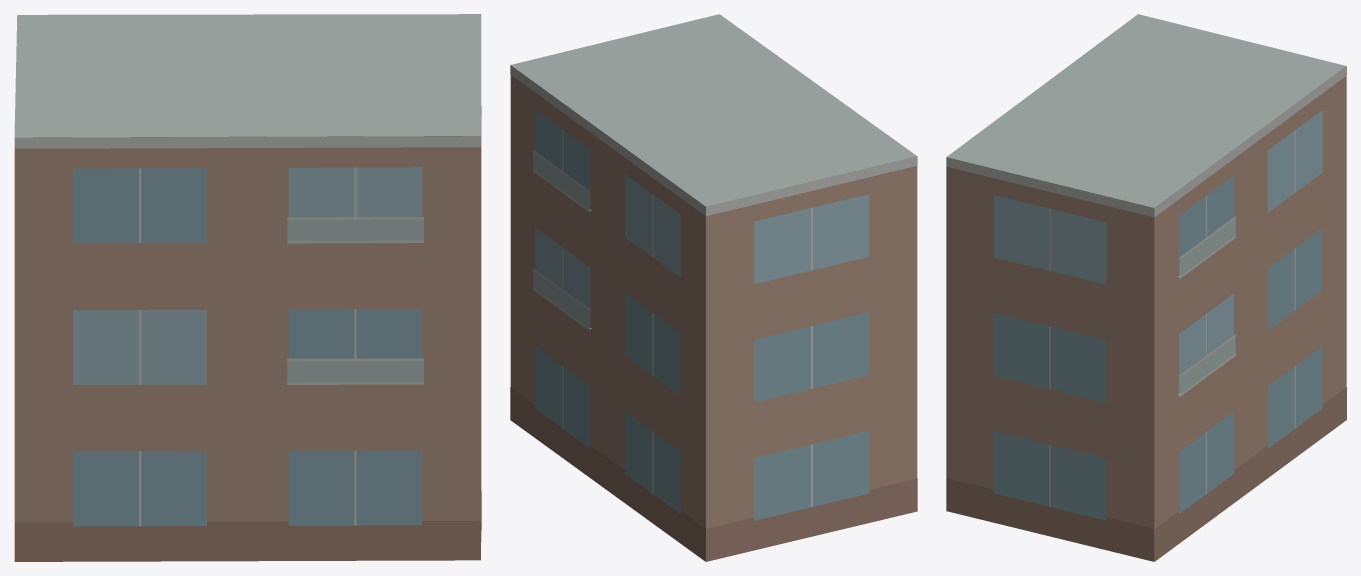
The model's file is survey-upis-32909954.glb.
The picture shows the model from 3 angles, left to right: view 1: azimuth 30°, elevation 25°; view 2: azimuth 150°, elevation 25°; view 3: azimuth 270°, elevation 25°; orthographic projection. The views are drawn at different scales.
Visible parts, largest first — view 1: survey-upis-32909954.tmp; view 2: survey-upis-32909954.tmp; view 3: survey-upis-32909954.tmp.
Boxes of the visible parts, bbox=[...] form: survey-upis-32909954.tmp: bbox=[14, 14, 481, 561]; survey-upis-32909954.tmp: bbox=[510, 14, 917, 561]; survey-upis-32909954.tmp: bbox=[946, 14, 1346, 561].
Bounding box in the file's own units: 10.77 × 9.15 × 9.39.
